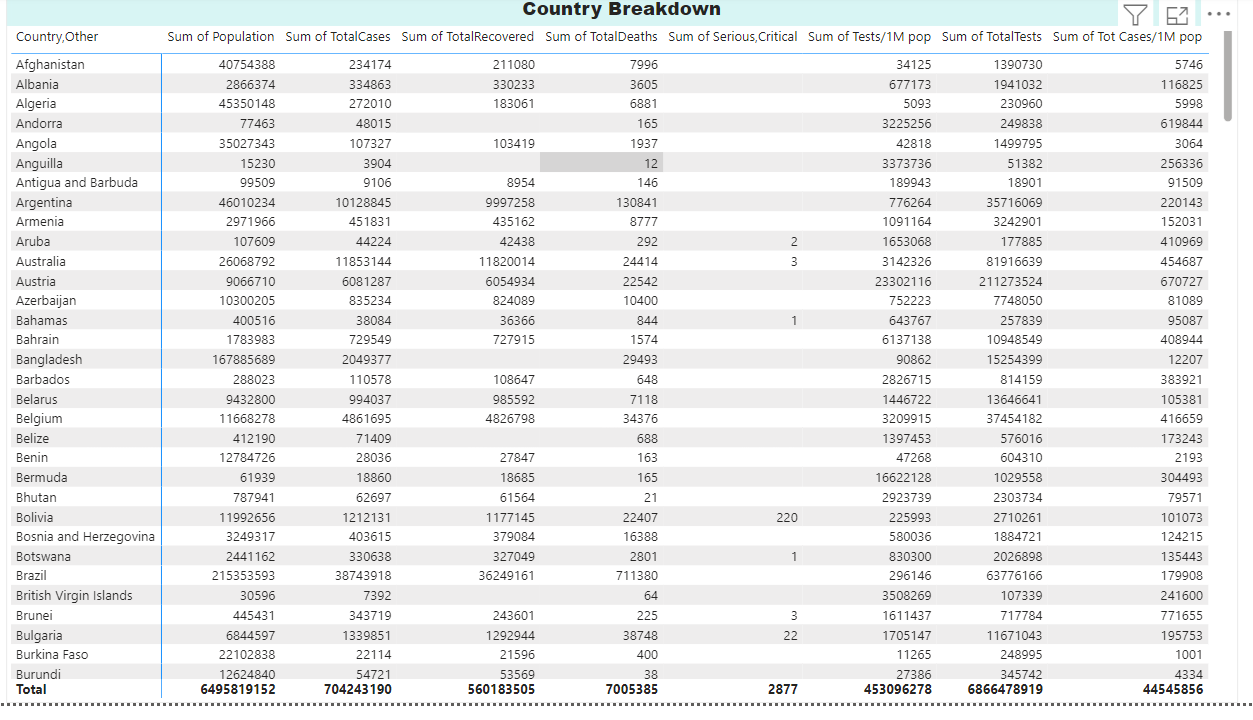

The dashboard page shown, as its layout file describes it:
{"tool":"powerbi","page":{"name":"Detailed Information","canvas":[1280,720],"ordinal":2},"visuals":[{"type":"pivotTable","title":"Country Breakdown","fields":{"Rows":["World Data.Country,Other"],"Values":["Sum(World Data.Population)","Sum(World Data.TotalCases)","Sum(World Data.TotalRecovered)","Sum(World Data.TotalDeaths)","Sum(World Data.Serious,Critical)","Sum(World Data.Tests/1M pop)","Sum(World Data.TotalTests)","Sum(World Data.Tot Cases/1M pop)"]},"box":[10,0,1251.7,720],"z":0}]}

Visuals, with their boxes on the page's 1280x720 design canvas (x1, y1, x2, y2). These are canvas units, not pixel positions in the 1253x720 screenshot, which may show the page scaled, cropped or inside an application window:
"Country Breakdown" pivotTable: [10,0,1262,720]
